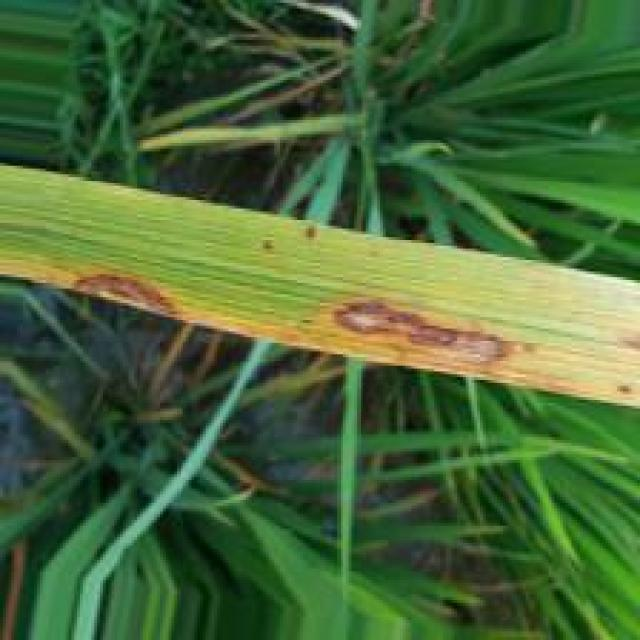Leaf_Blast: (320, 292, 550, 375), (59, 269, 182, 320)
